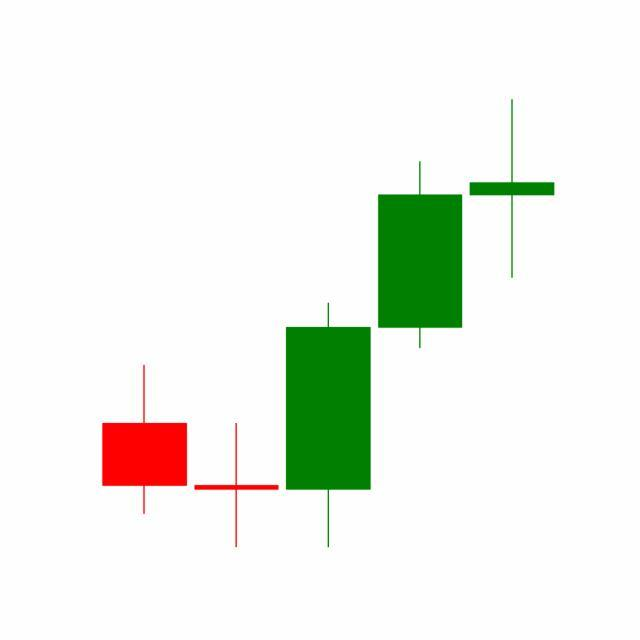Spinning Top: (466, 98, 559, 281)
